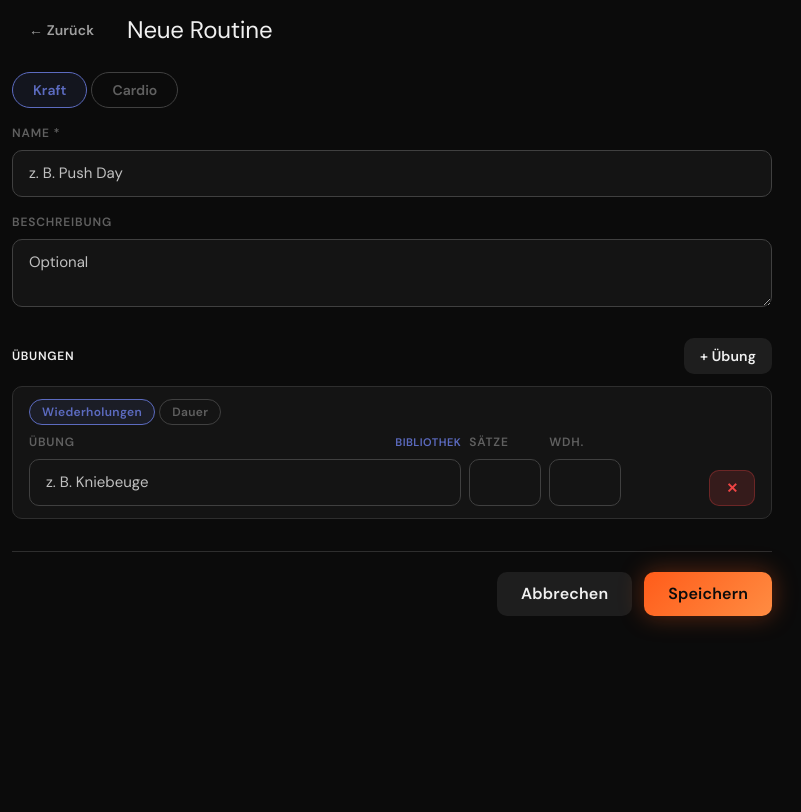
Test: RoutineForm – Übungsbibliothek › filtert Ergebnisse nach Suchbegriff
Step 1. Click the button "Bibliothek" → [428, 442], box [395,435,461,449]
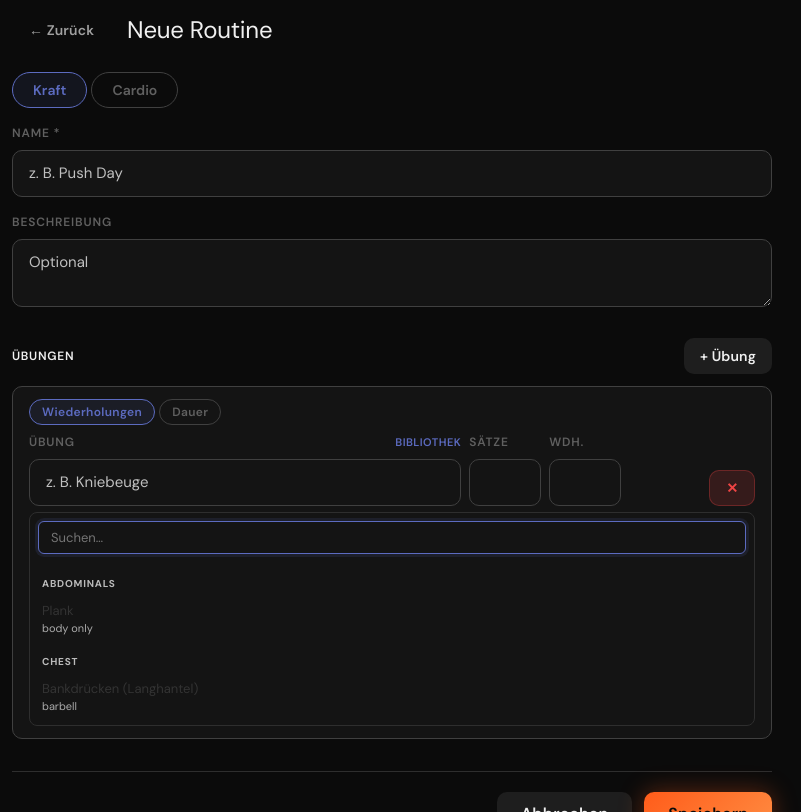
Step 2. Type "Plank" into the field with placeholder "Suchen…" → [392, 538], box [38,521,746,554]
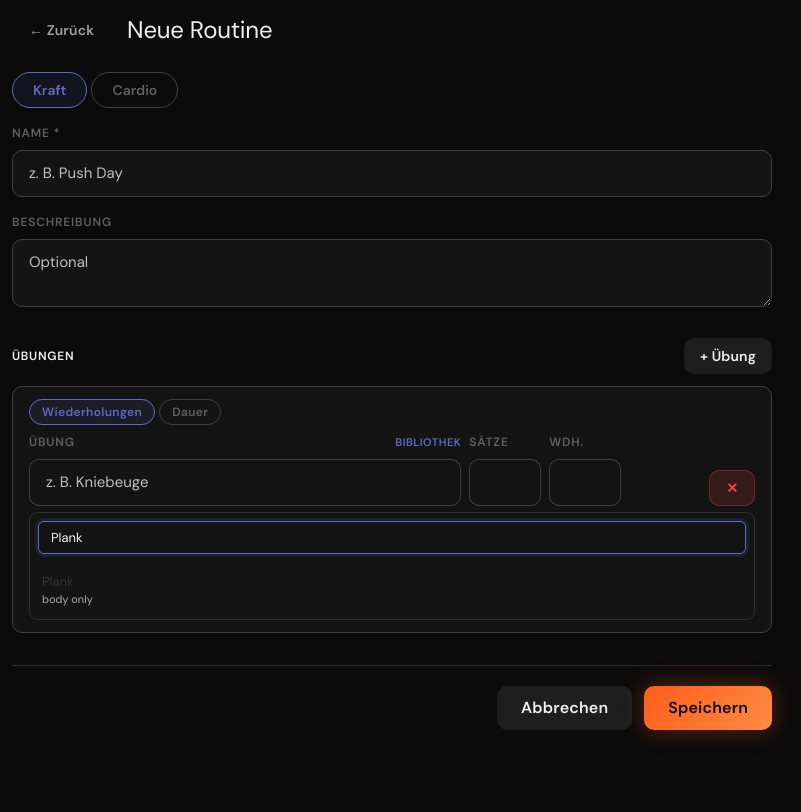
Expected: the text "Plank" is shown, [42,573,74,591]
Expected: the option "Bankdrücken (Langhantel)" is gone
